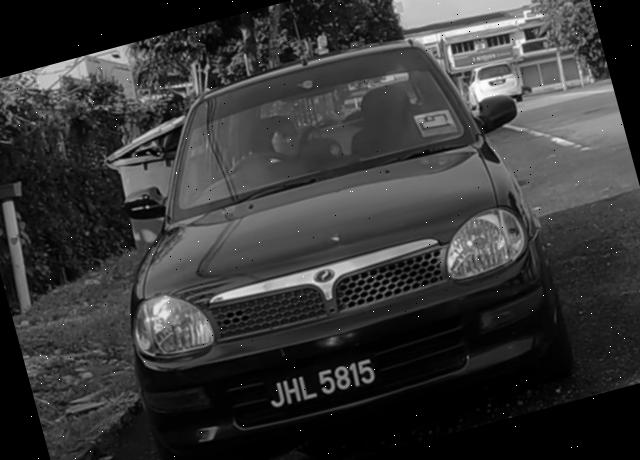License_Plate: (256, 352, 389, 420)
car: (66, 8, 589, 460), (461, 56, 534, 115)
